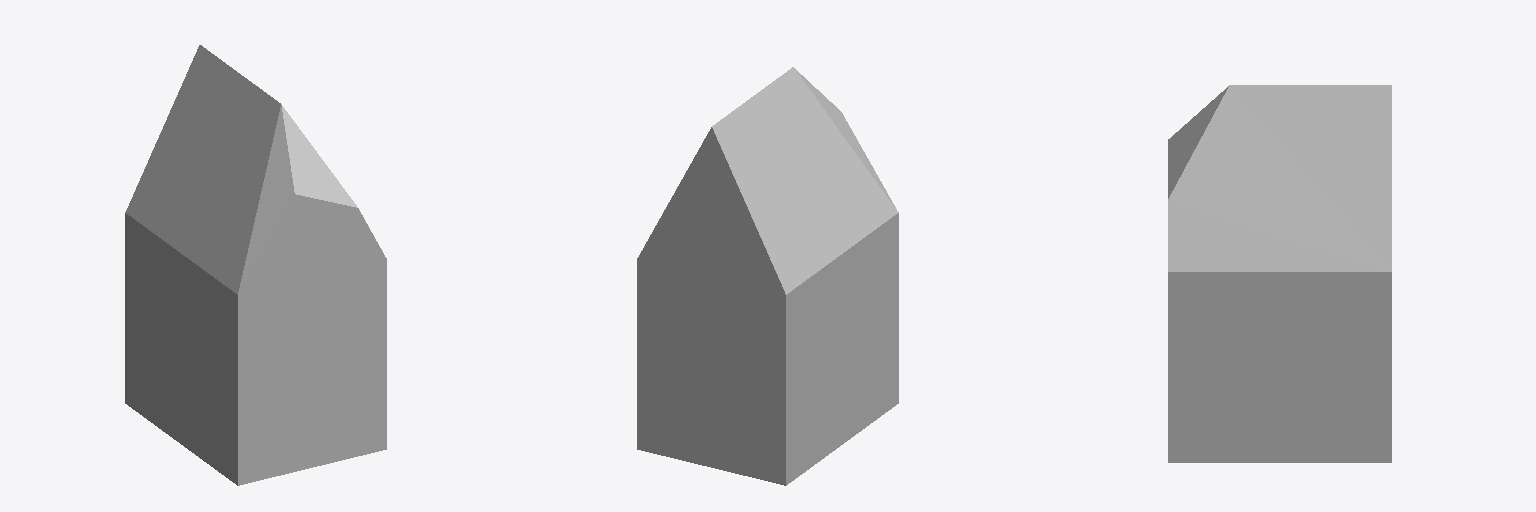
The model's file is Union_02.obj.
The picture shows the model from 3 angles: view 1: azimuth 30°, elevation 25°; view 2: azimuth 150°, elevation 25°; view 3: azimuth 270°, elevation 25°; orthographic projection.
Parts seen in each view (by area): view 1: union_02_Cube.013; view 2: union_02_Cube.013; view 3: union_02_Cube.013.
Boxes of the visible parts, x1=… form: union_02_Cube.013: x1=125, y1=45, x2=386, y2=485; union_02_Cube.013: x1=637, y1=67, x2=898, y2=485; union_02_Cube.013: x1=1168, y1=85, x2=1391, y2=462.
Bounding box in the file's own units: 0.2163 × 0.4739 × 0.2832.